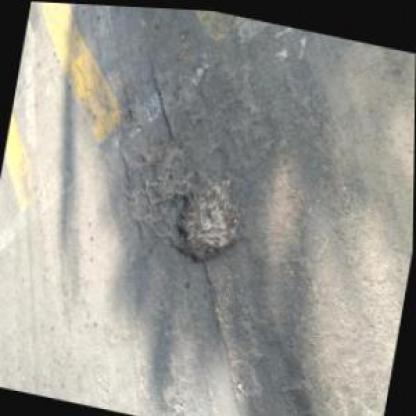pothole: (165, 161, 251, 269), (143, 129, 190, 202), (118, 80, 148, 121)
